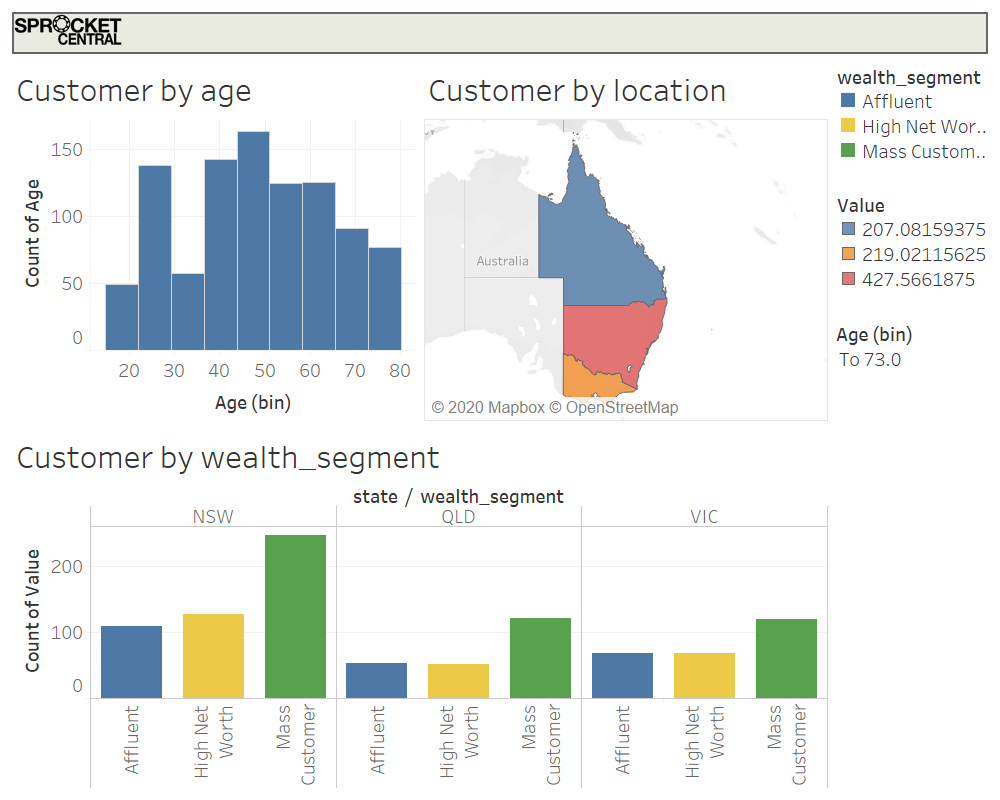

What the dashboard file says about the page in this screenshot:
{"tool":"tableau","page":{"name":"Best new_Customers","canvas":[1000,800],"ordinal":0},"visuals":[{"type":"worksheet","box":[0,0,1000,800]},{"type":"worksheet","param":"vert","box":[8,8,984,784]},{"type":"worksheet","param":"C:/Users/KIIT/Desktop/sprocket_central_logo.png","box":[8,8,984,50]},{"type":"worksheet","param":"horz","box":[8,58,984,734]},{"type":"worksheet","box":[8,58,824,734]},{"type":"worksheet","title":"Customer by age","mark":"Automatic","rows":["Age"],"cols":["Age (bin)"],"box":[8,58,412,367]},{"type":"worksheet","title":"Customer by location","mark":"Automatic","box":[420,58,412,367]},{"type":"worksheet","param":"vert","box":[832,58,160,734]},{"type":"worksheet","title":"Customer by wealth_segment","mark":"Automatic","rows":["Value"],"cols":["state","wealth_segment"],"param":"[federated.1n97nw808g1kjz16gaj3i0px8ppc].[none:wealth_segment:nk]","box":[832,58,160,128]},{"type":"worksheet","title":"Customer by location","mark":"Automatic","param":"[federated.1n97nw808g1kjz16gaj3i0px8ppc].[sum:Value:ok]","box":[832,186,160,130]},{"type":"worksheet","title":"Customer by age","mark":"Automatic","rows":["Age"],"cols":["Age (bin)"],"param":"[federated.1n97nw808g1kjz16gaj3i0px8ppc].[none:Age (bin):qk]","box":[832,316,160,77]},{"type":"worksheet","title":"Customer by wealth_segment","mark":"Automatic","rows":["Value"],"cols":["state","wealth_segment"],"box":[8,425,824,367]}]}

Visuals, with their boxes in screenshot pixels (x1, y1, x2, y2), scaled from the page's 1000x800 canvas onto the 1000x800 screenshot:
worksheet: 0,0,999,799
worksheet: 8,8,992,792
worksheet: 8,8,992,58
worksheet: 8,58,992,792
worksheet: 8,58,832,792
"Customer by age" worksheet: 8,58,420,425
"Customer by location" worksheet: 420,58,832,425
worksheet: 832,58,992,792
"Customer by wealth_segment" worksheet: 832,58,992,186
"Customer by location" worksheet: 832,186,992,316
"Customer by age" worksheet: 832,316,992,393
"Customer by wealth_segment" worksheet: 8,425,832,792
